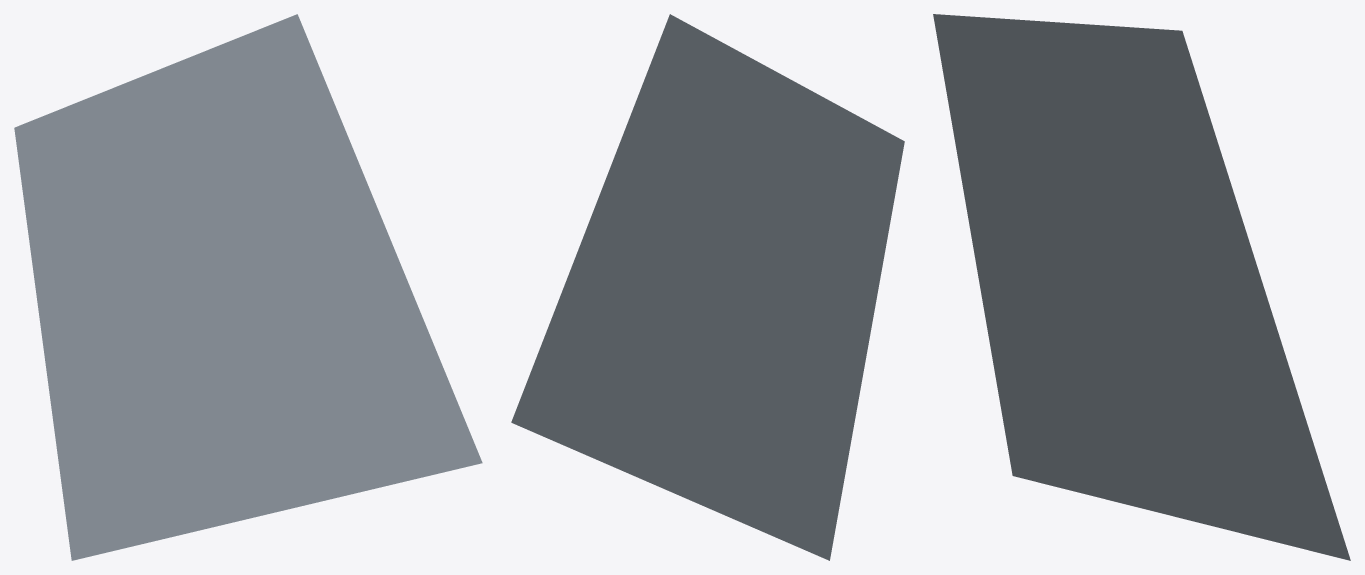
Rendered from palmar-capitohamate-ligament-l.glb.
3 views of the same model, side by side, from view 1: azimuth 30°, elevation 25°; view 2: azimuth 150°, elevation 25°; view 3: azimuth 330°, elevation 25° (orthographic). The views are drawn at different scales.
Visible parts, largest first — view 1: Palmar capitohamate ligament.l; view 2: Palmar capitohamate ligament.l; view 3: Palmar capitohamate ligament.l.
Part boxes in pixels (bbox=[...]): Palmar capitohamate ligament.l: bbox=[14, 14, 482, 560]; Palmar capitohamate ligament.l: bbox=[511, 14, 904, 560]; Palmar capitohamate ligament.l: bbox=[933, 14, 1350, 560].
Bounding box in the file's own units: 0.00487 × 0.00541 × 0.000654.
